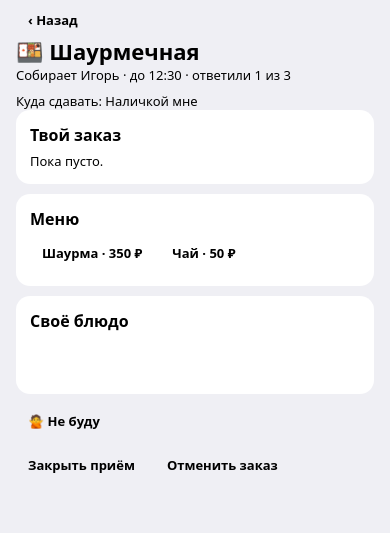
it: OrderScreen — админ у чужого заказа › вопрос «Закрыть приём» называет того, кто собирает
Step 1. Click the button "Закрыть приём" → (81, 466), box [16,448,147,484]
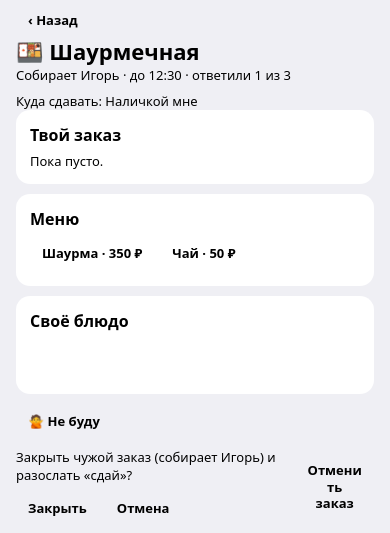
Result: the text "Закрыть чужой заказ (собирает Игорь) и разослать «сдай»?" is shown at [16,448,287,484]
